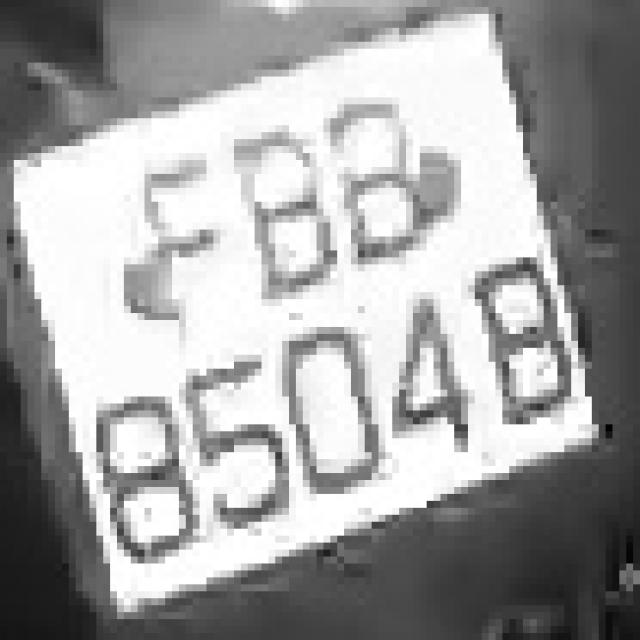0: (262, 320, 392, 522)
4: (372, 257, 474, 487)
5: (172, 355, 310, 556)
8: (69, 369, 206, 591)
B: (193, 118, 344, 320), (461, 264, 578, 459), (302, 98, 433, 272)
F: (117, 125, 227, 362)
